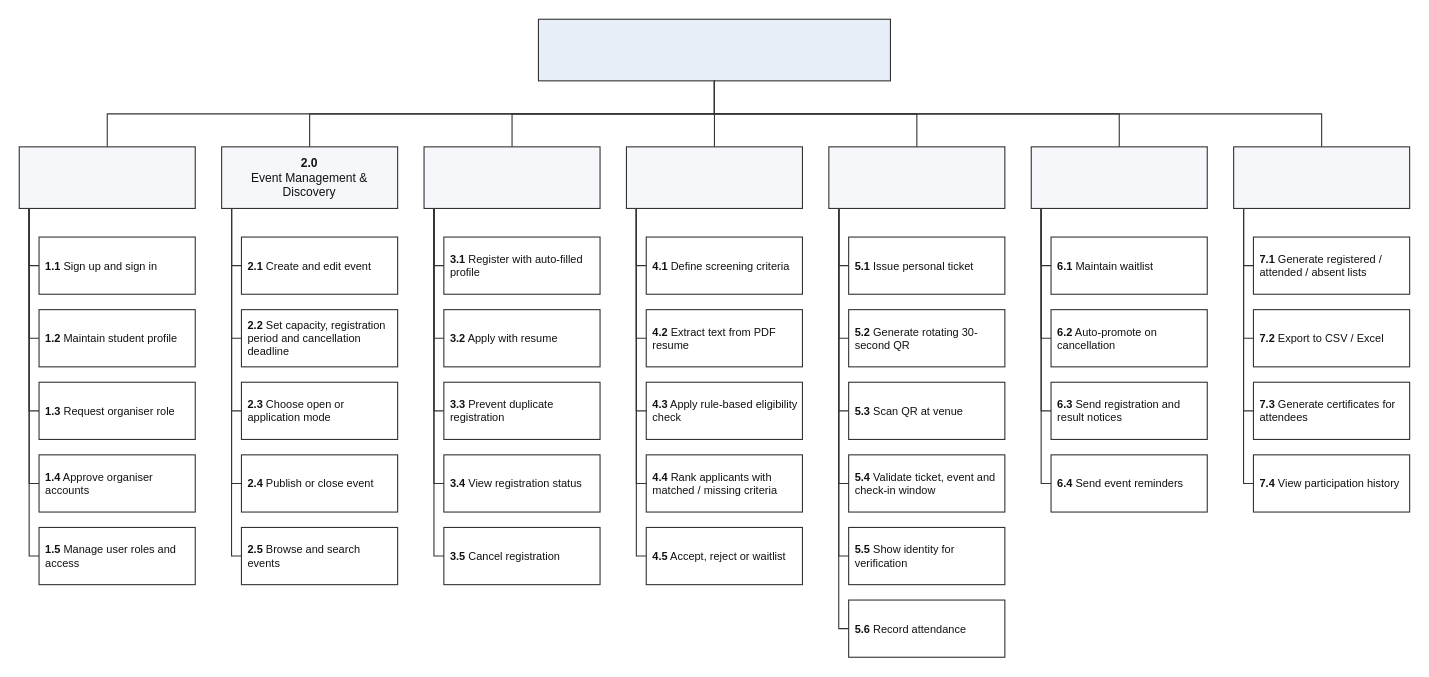
Image size: 1429x677. Some labels were removed from this diagram. The box of each missing label's shape, as (x1, y1, x2, y2) in pixels:
1.0 User & Role Management: (18, 146, 195, 208)
3.0 Registration & Applications: (423, 146, 600, 208)
4.0 Resume Screening: (625, 146, 802, 208)
5.0 QR Ticket & Check-in: (828, 146, 1005, 208)
6.0 Waitlist & Notifications: (1030, 146, 1207, 208)
7.0 Reports & Certificates: (1233, 146, 1410, 208)
FCSIT Event Hub System: (537, 18, 890, 81)
